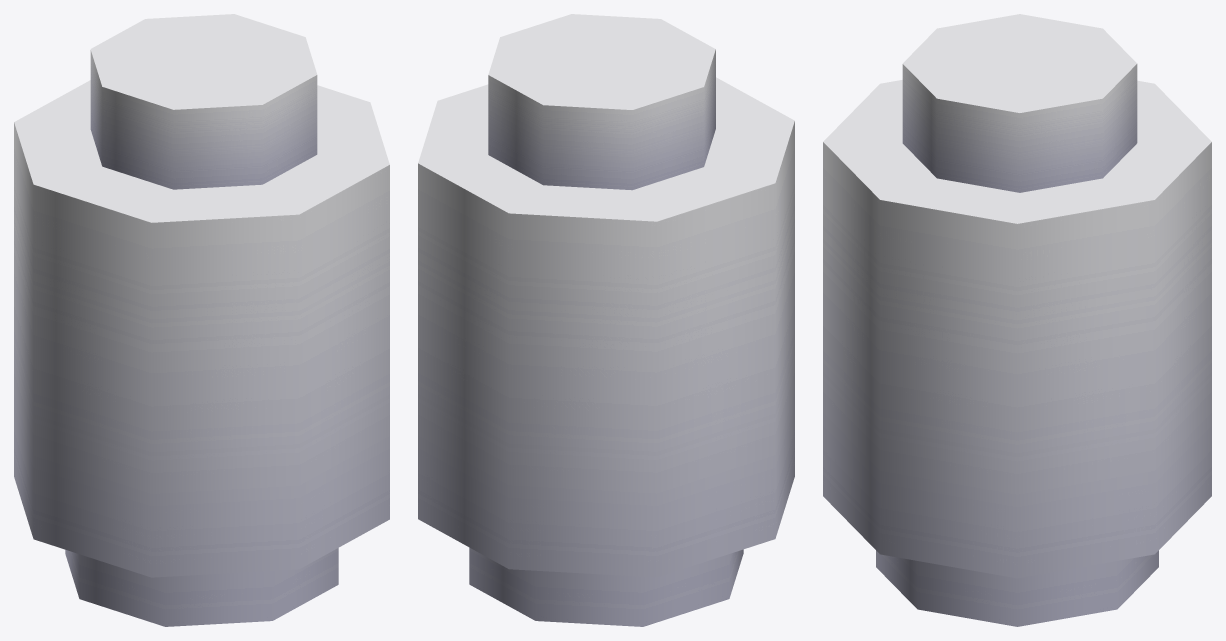
File: square-lq-brick-1x1-round.glb
The picture shows the model from 3 angles, left to right: view 1: azimuth 30°, elevation 25°; view 2: azimuth 150°, elevation 25°; view 3: azimuth 270°, elevation 25°; orthographic projection.
Visible parts, largest first — view 1: square-lq-brick-1x1-round; view 2: square-lq-brick-1x1-round; view 3: square-lq-brick-1x1-round.
Part boxes in pixels (box(x1,y1,x2,y2)): square-lq-brick-1x1-round: box(14, 14, 389, 626); square-lq-brick-1x1-round: box(418, 14, 794, 626); square-lq-brick-1x1-round: box(823, 14, 1211, 626).
Size of the model in its own units: 0.3975 by 0.57 by 0.3975.
1 material, 1 textured.
